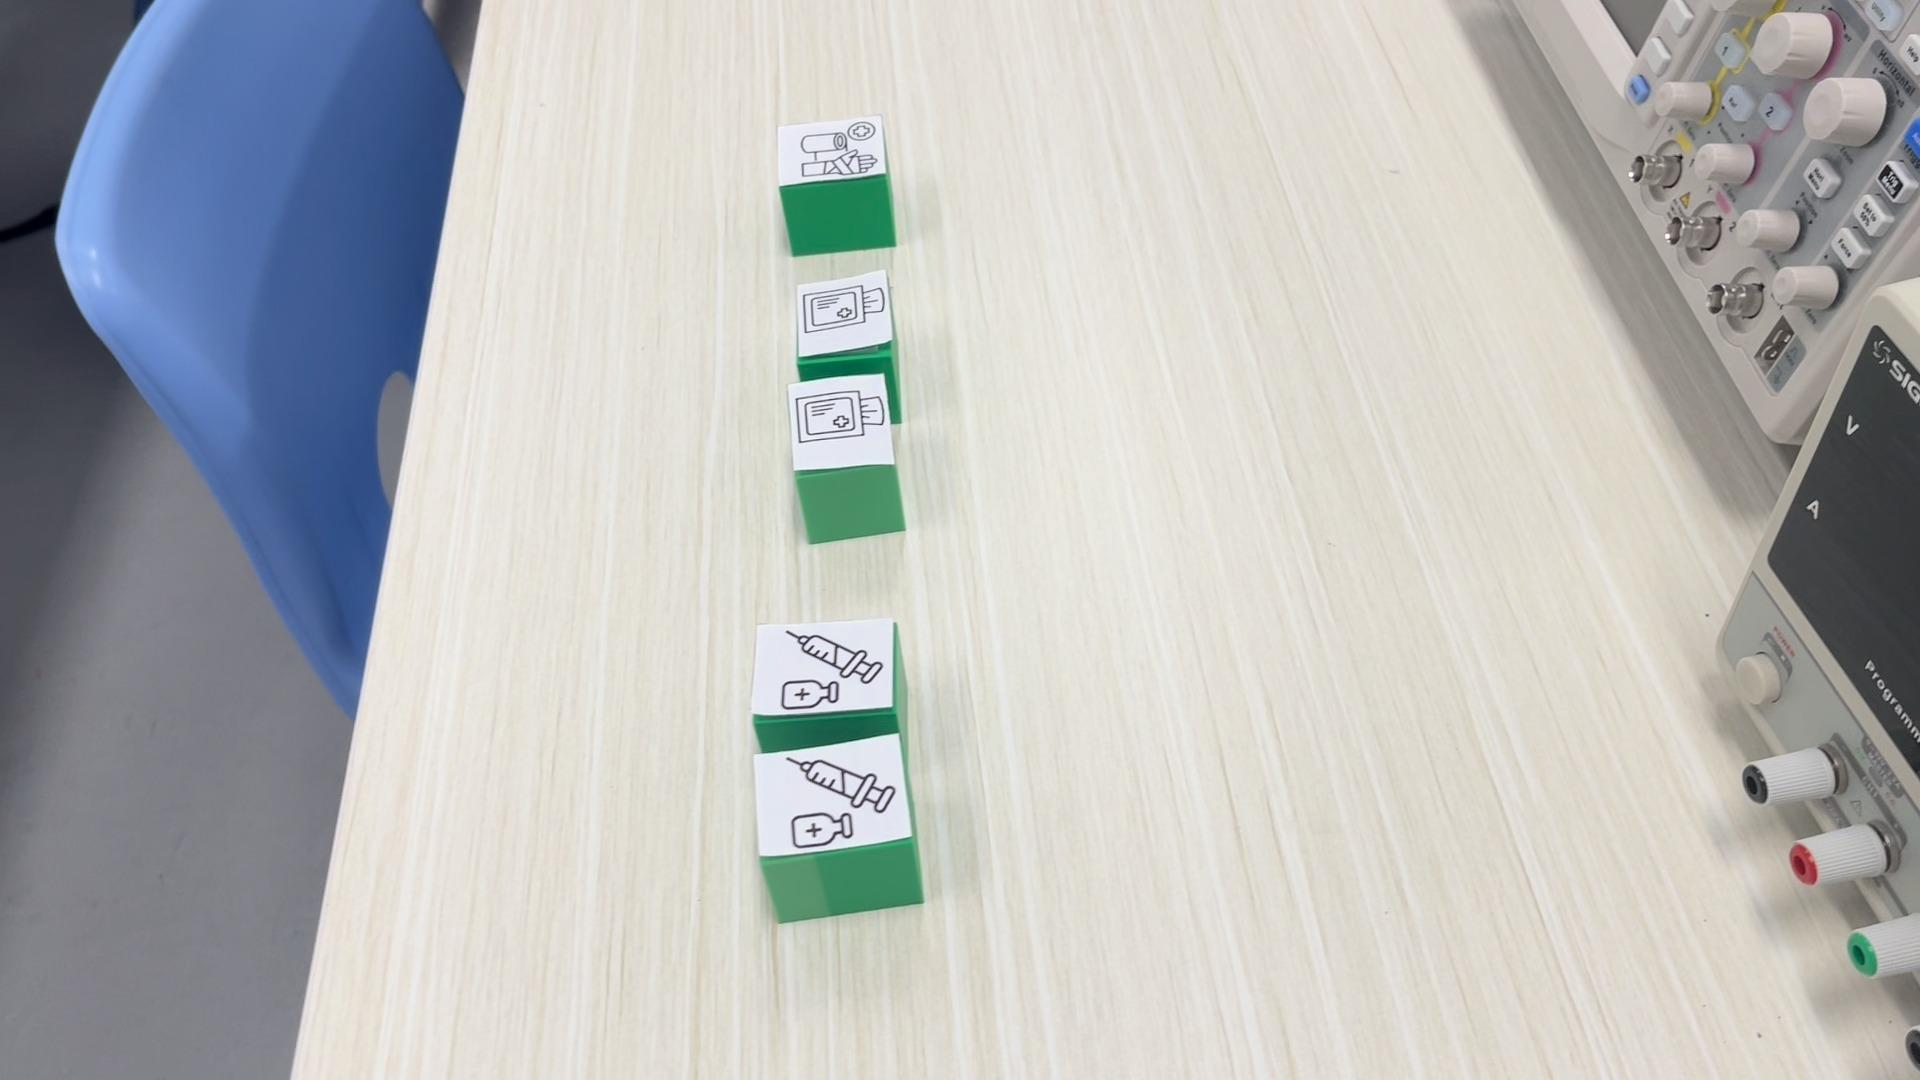Bandages: (779, 115, 895, 257)
Gauze: (790, 372, 906, 546), (795, 268, 894, 375)
antiseptic cream: (752, 735, 926, 923), (750, 615, 906, 752)
